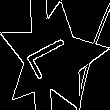L_NE: (23, 33, 82, 84)
